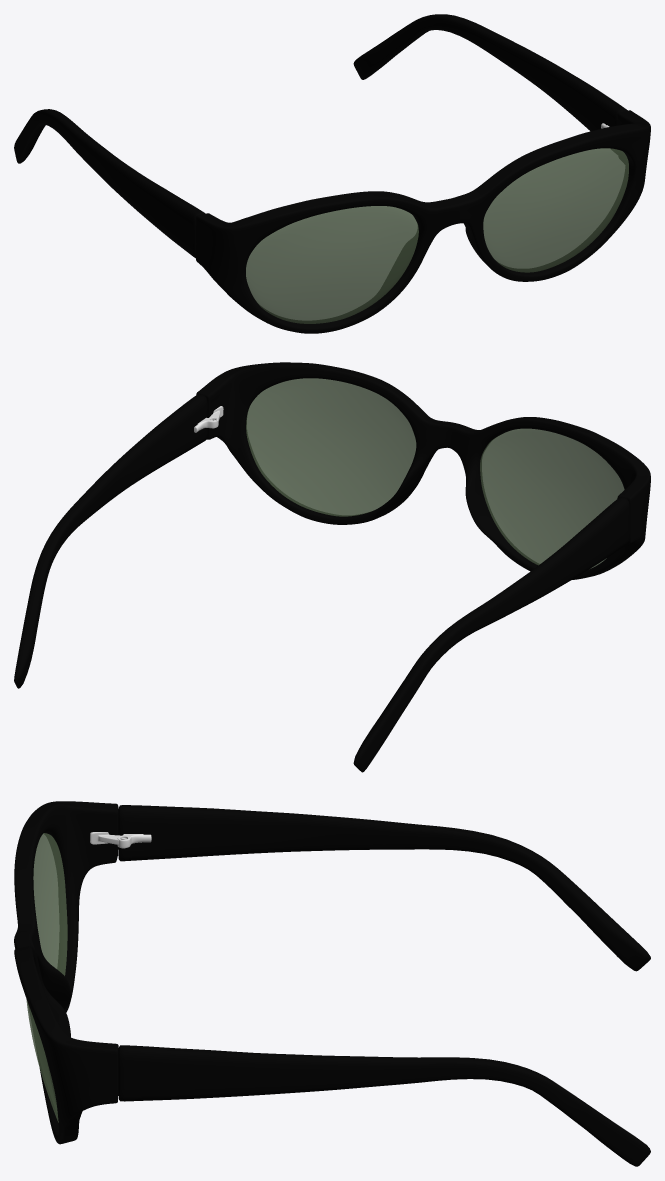
File: kadri-sun-sbf-jet-black_medium.glb
3 views of the same model, one above another, from view 1: azimuth 30°, elevation 25°; view 2: azimuth 150°, elevation 25°; view 3: azimuth 270°, elevation 25° (orthographic). The views are drawn at different scales.
Parts seen in each view (by area): view 1: lenses, face_front, left_temple, right_temple; view 2: lenses, face_front, right_temple, left_temple; view 3: left_temple, right_temple, face_front, lenses.
Boxes of the visible parts, x1=… form: lenses: x1=246, y1=148, x2=628, y2=323; face_front: x1=196, y1=110, x2=650, y2=333; left_temple: x1=353, y1=14, x2=627, y2=152; right_temple: x1=14, y1=109, x2=205, y2=258; lenses: x1=246, y1=378, x2=624, y2=568; face_front: x1=196, y1=362, x2=650, y2=579; right_temple: x1=353, y1=497, x2=629, y2=772; left_temple: x1=14, y1=394, x2=207, y2=688; left_temple: x1=118, y1=1045, x2=650, y2=1166; right_temple: x1=118, y1=805, x2=650, y2=971; face_front: x1=14, y1=801, x2=118, y2=1144; lenses: x1=26, y1=833, x2=67, y2=1122.
Size of what is drawn, in the model's own units: 0.1367 by 0.0428 by 0.1479.
